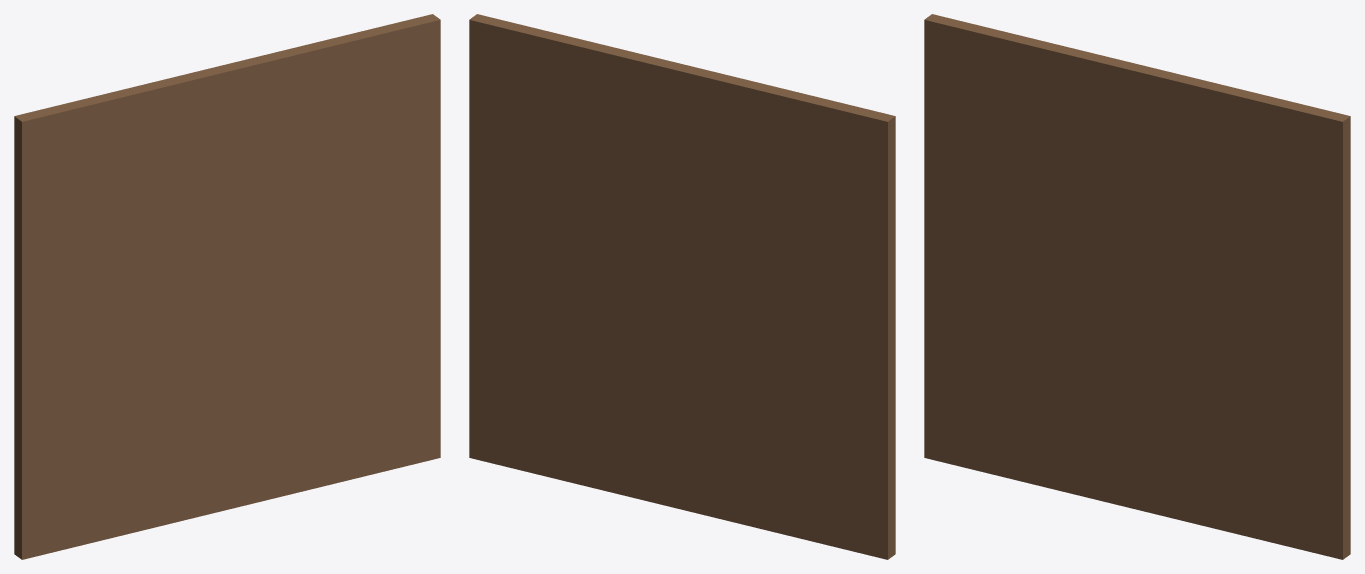
The model's file is CH_BAY_DOOR.fbx.
The picture shows the model from 3 angles, left to right: view 1: azimuth 30°, elevation 25°; view 2: azimuth 150°, elevation 25°; view 3: azimuth 330°, elevation 25°; orthographic projection.
Parts seen in each view (by area): view 1: CH_BAY_DOOR_LOD0; view 2: CH_BAY_DOOR_LOD0; view 3: CH_BAY_DOOR_LOD0.
Part boxes in pixels (x1=…): CH_BAY_DOOR_LOD0: x1=14, y1=14, x2=440, y2=559; CH_BAY_DOOR_LOD0: x1=469, y1=14, x2=895, y2=559; CH_BAY_DOOR_LOD0: x1=924, y1=14, x2=1350, y2=559.
Size of what is drawn, in the model's own units: 3.06 by 3.06 by 0.1.
